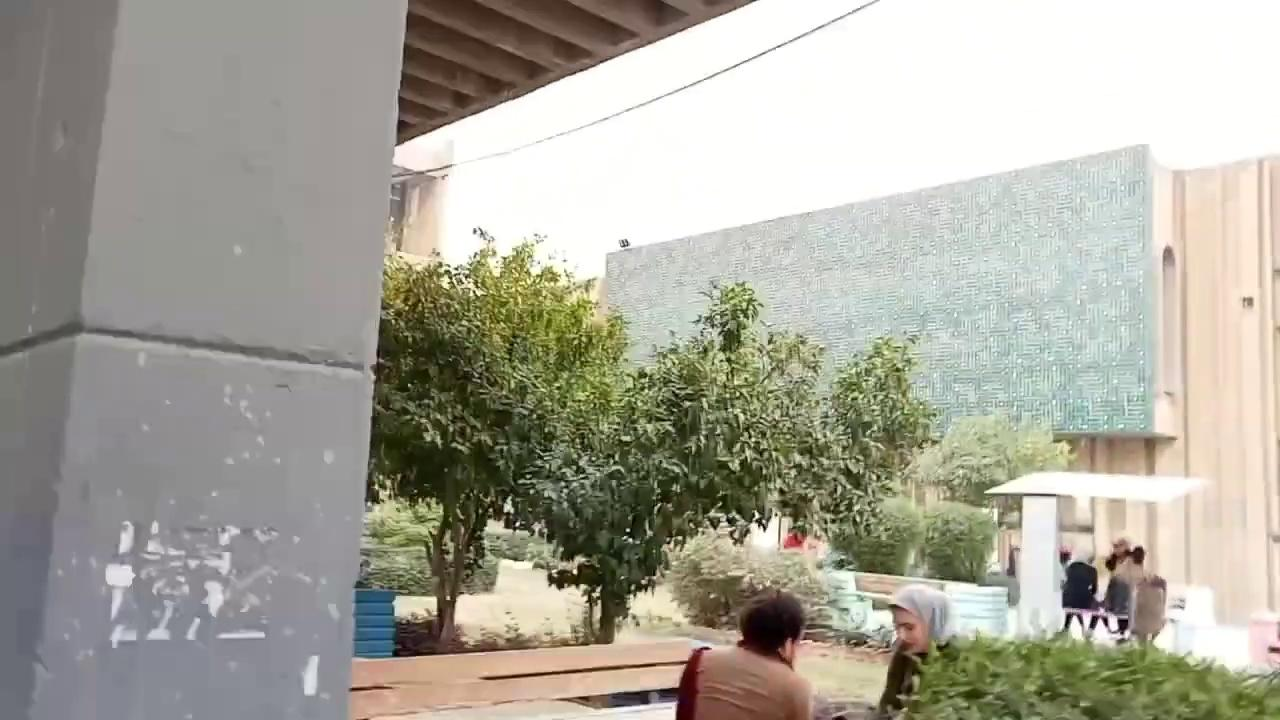person: (674, 591, 815, 719), (875, 583, 959, 719), (1060, 545, 1099, 638)
tree: (366, 225, 939, 647), (366, 225, 630, 645), (625, 277, 932, 635), (519, 358, 711, 643), (894, 627, 1279, 718), (901, 410, 1077, 583), (816, 332, 939, 570), (918, 500, 998, 583)
